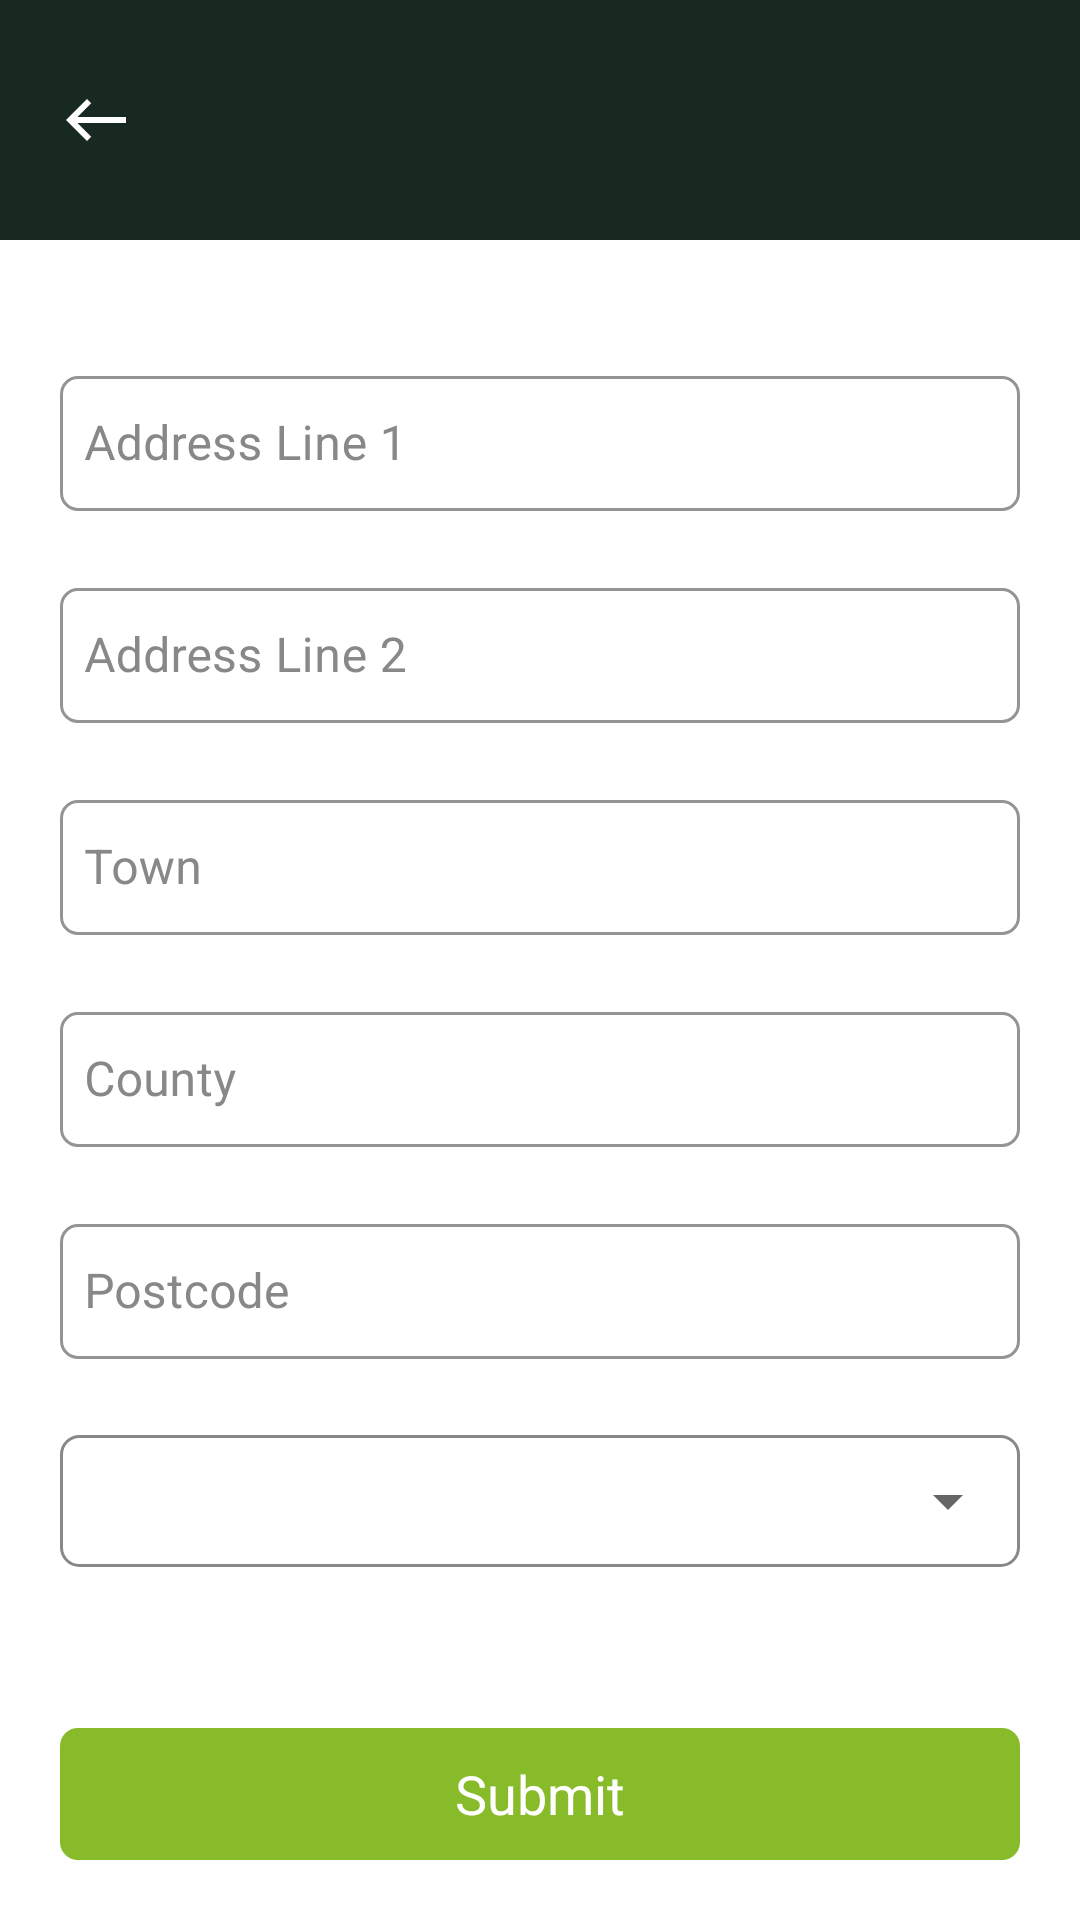

Icon bounding boxes for this 1080w x 1920h phone screenshot, format BBox(x1, y1, x2, y2):
arrow back: BBox(66, 99, 126, 141)
